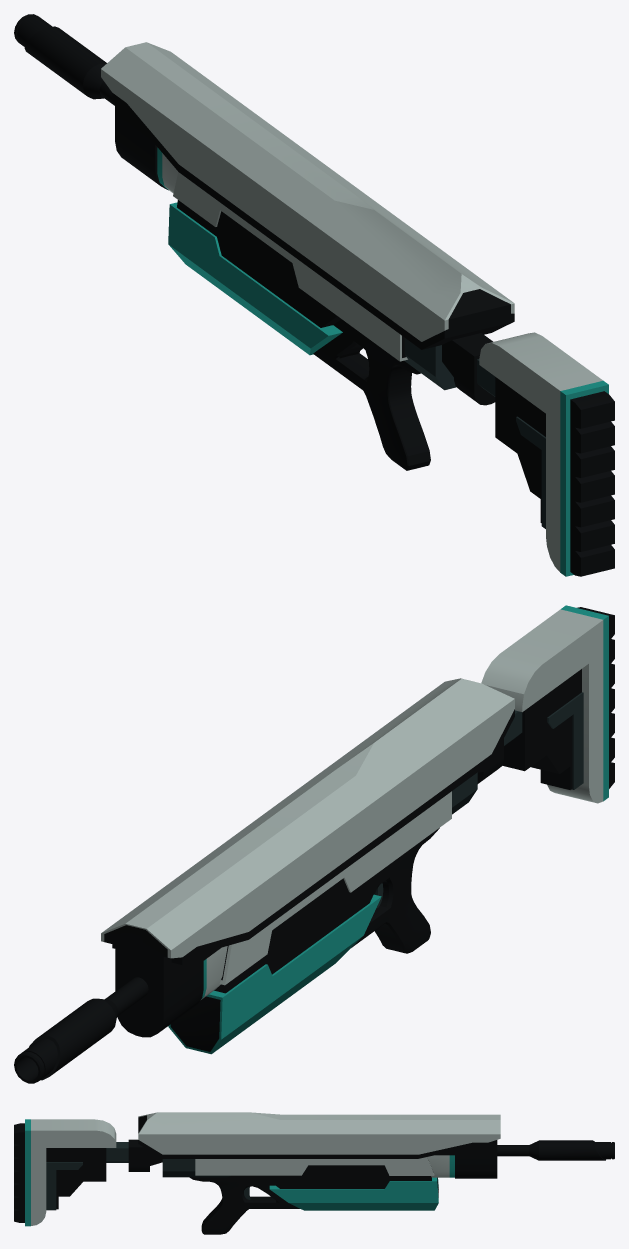
File: rail-lance.glb
3 views of the same model, one above another, from view 1: azimuth 30°, elevation 25°; view 2: azimuth 150°, elevation 25°; view 3: azimuth 270°, elevation 25° (orthographic). The views are drawn at different scales.
Parts seen in each view (by area): view 1: Sniper_2; view 2: Sniper_2; view 3: Sniper_2.
Boxes of the visible parts, x1,y1,x2,y2 form: Sniper_2: (14,14,614,576); Sniper_2: (14,605,614,1083); Sniper_2: (14,1112,614,1234).
Size of the model in its own units: 0.1784 by 0.5519 by 2.51.
